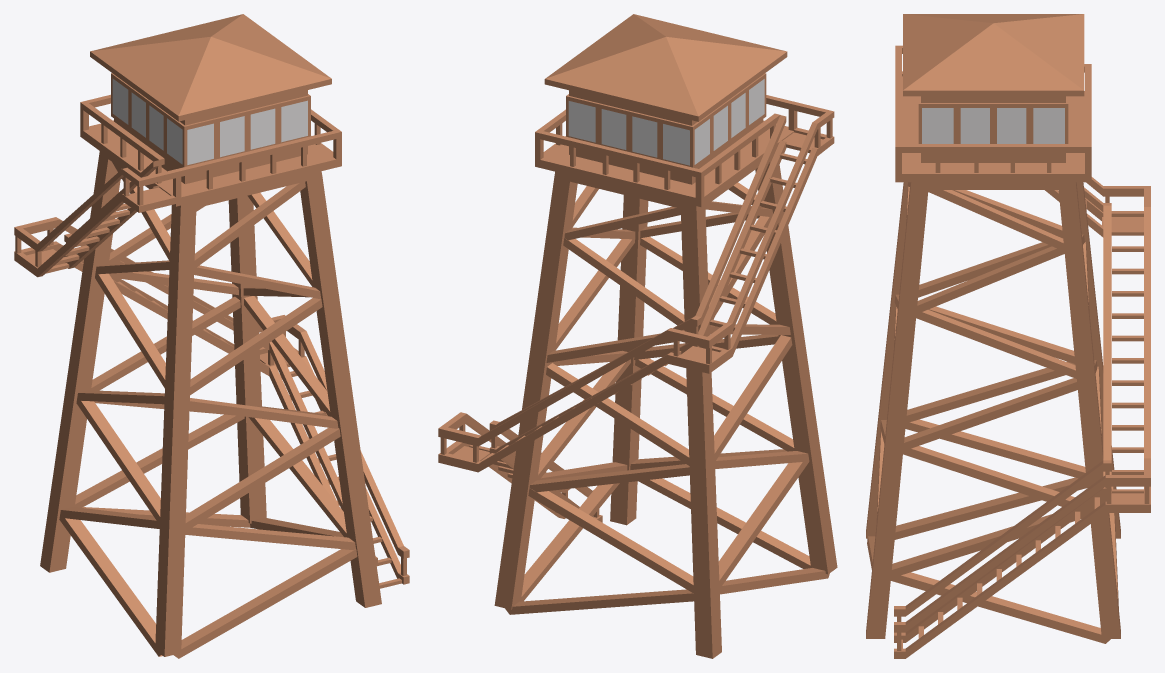
Rendered from Watch_Tower.fbx.
3 renders of one model, left to right at view 1: azimuth 30°, elevation 25°; view 2: azimuth 150°, elevation 25°; view 3: azimuth 270°, elevation 25°, orthographic. The views are drawn at different scales.
Visible parts, largest first — view 1: WatchTower; view 2: WatchTower; view 3: WatchTower.
Part boxes in pixels (x1,y1,x2,y2): WatchTower: [14, 14, 409, 658]; WatchTower: [438, 14, 837, 658]; WatchTower: [866, 14, 1150, 658].
Bounding box in the file's own units: 275 × 245 × 539.
